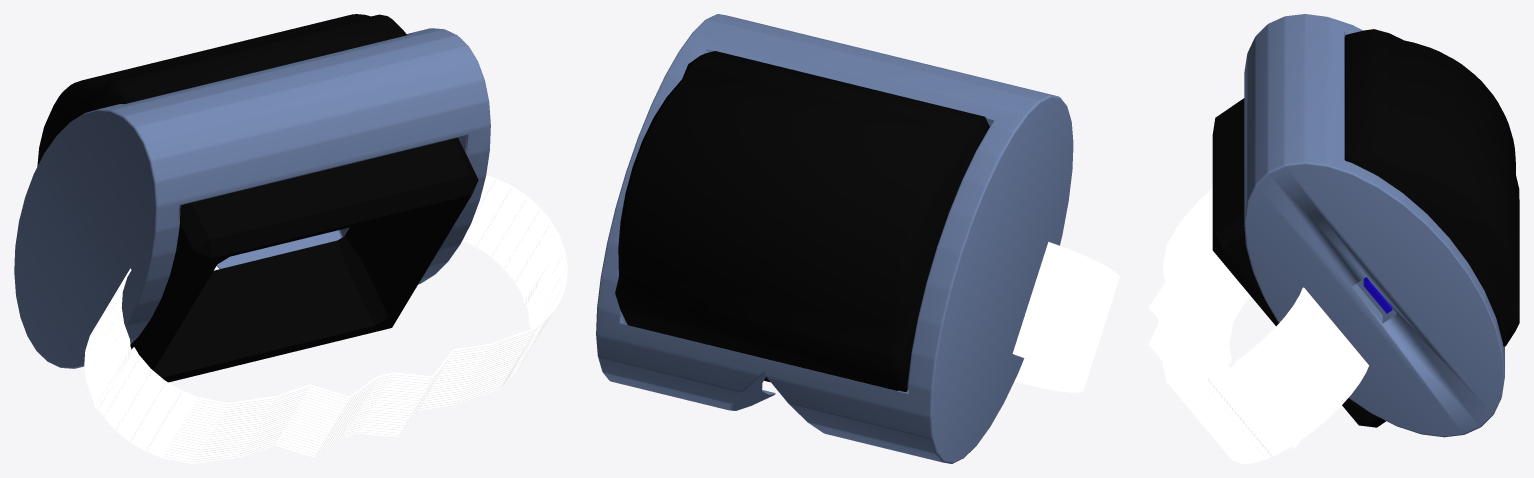
Rendered from headset.glb.
3 views of the same model, side by side, from view 1: azimuth 30°, elevation 25°; view 2: azimuth 150°, elevation 25°; view 3: azimuth 270°, elevation 25° (orthographic). The views are drawn at different scales.
Visible parts, largest first — view 1: Cylinder.007, Cube.010, Cylinder.009, Cylinder.008; view 2: Cylinder.008, Cylinder.007, Cylinder.009; view 3: Cylinder.007, Cylinder.008, Cylinder.009, Cube.010.
Part boxes in pixels (left/top/right/bottom): Cylinder.007: left=14, top=28, right=490, bottom=368; Cube.010: left=130, top=137, right=478, bottom=382; Cylinder.009: left=84, top=175, right=567, bottom=463; Cylinder.008: left=37, top=14, right=406, bottom=166; Cylinder.008: left=615, top=51, right=989, bottom=390; Cylinder.007: left=596, top=14, right=1073, bottom=463; Cylinder.009: left=1012, top=242, right=1119, bottom=392; Cylinder.007: left=1244, top=14, right=1504, bottom=437; Cylinder.008: left=1344, top=29, right=1519, bottom=346; Cylinder.009: left=1148, top=188, right=1368, bottom=463; Cube.010: left=1212, top=98, right=1385, bottom=427.
Bounding box in the file's own units: 0.1664 × 0.1245 × 0.1354.
